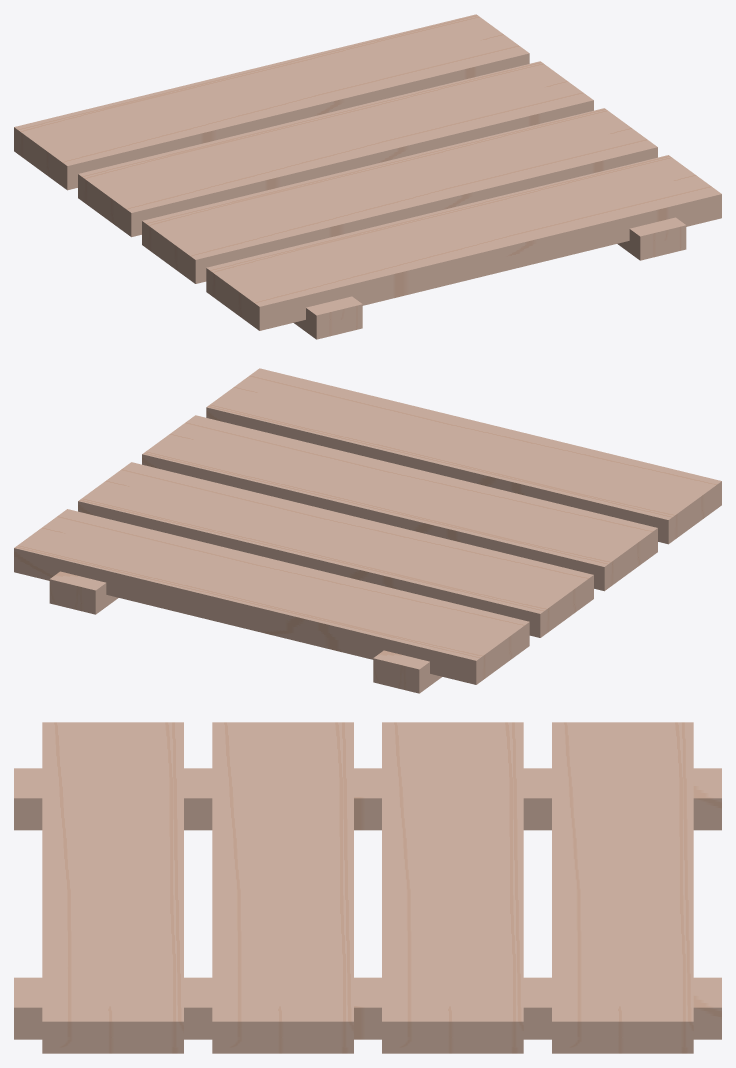
File: StageObject5.gltf
The picture shows the model from 3 angles, top to bottom: view 1: azimuth 30°, elevation 25°; view 2: azimuth 150°, elevation 25°; view 3: azimuth 270°, elevation 25°; orthographic projection. The views are drawn at different scales.
Visible parts, largest first — view 1: Cube.005, Cube.004, Cube.003, Cube.002, Cube, Cube.001; view 2: Cube.002, Cube.003, Cube.004, Cube.005, Cube, Cube.001; view 3: Cube.002, Cube.003, Cube.004, Cube.005, Cube, Cube.001.
Part boxes in pixels (<box>): Cube.005: <box>206,155,721,330</box>; Cube.004: <box>142,108,657,283</box>; Cube.003: <box>78,61,593,237</box>; Cube.002: <box>14,14,529,190</box>; Cube: <box>617,217,686,260</box>; Cube.001: <box>293,296,362,339</box>; Cube.002: <box>14,509,529,684</box>; Cube.003: <box>78,462,593,637</box>; Cube.004: <box>142,415,657,591</box>; Cube.005: <box>206,368,721,544</box>; Cube: <box>49,571,118,614</box>; Cube.001: <box>373,650,442,693</box>; Cube.002: <box>552,722,693,1053</box>; Cube.003: <box>382,722,523,1053</box>; Cube.004: <box>212,722,353,1053</box>; Cube.005: <box>42,722,183,1053</box>; Cube: <box>14,977,721,1039</box>; Cube.001: <box>14,768,721,830</box>.
Size of the model in its own units: 2 by 0.15 by 2.
Materials: 1 (1 with a texture image).
